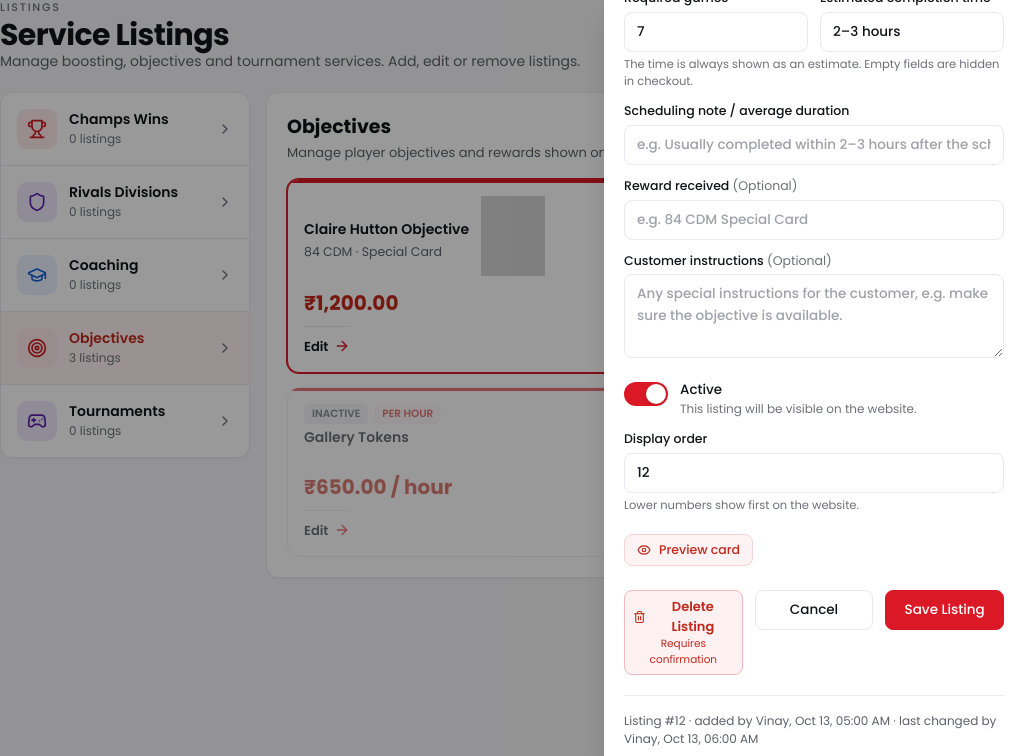
Scenario: Add / Edit Listing › delete asks first, and with orders placed recommends deactivating instead
(page scrolled)
What coordinates should you click on to do the following:
click the button "Delete Listing Requires confirmation"
I would click on:
 (683, 632)
Its box is [624, 590, 743, 675].
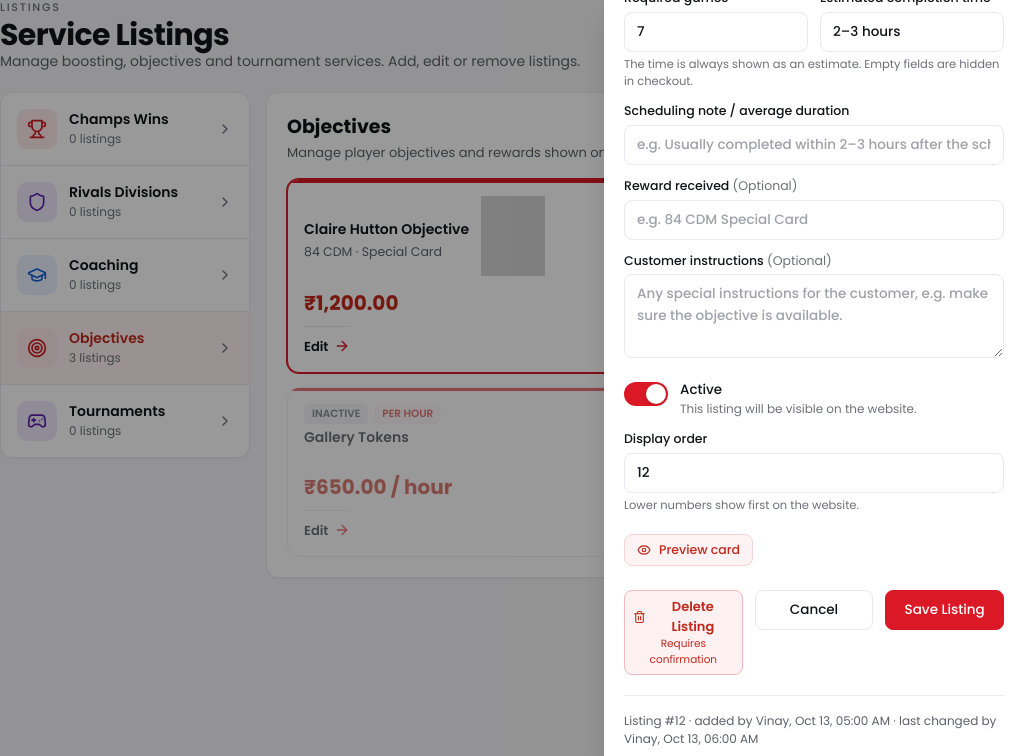
What coordinates should you click on to do the following:
click the button "Delete Listing Requires confirmation"
I would click on:
 (683, 632)
Its box is [624, 590, 743, 675].
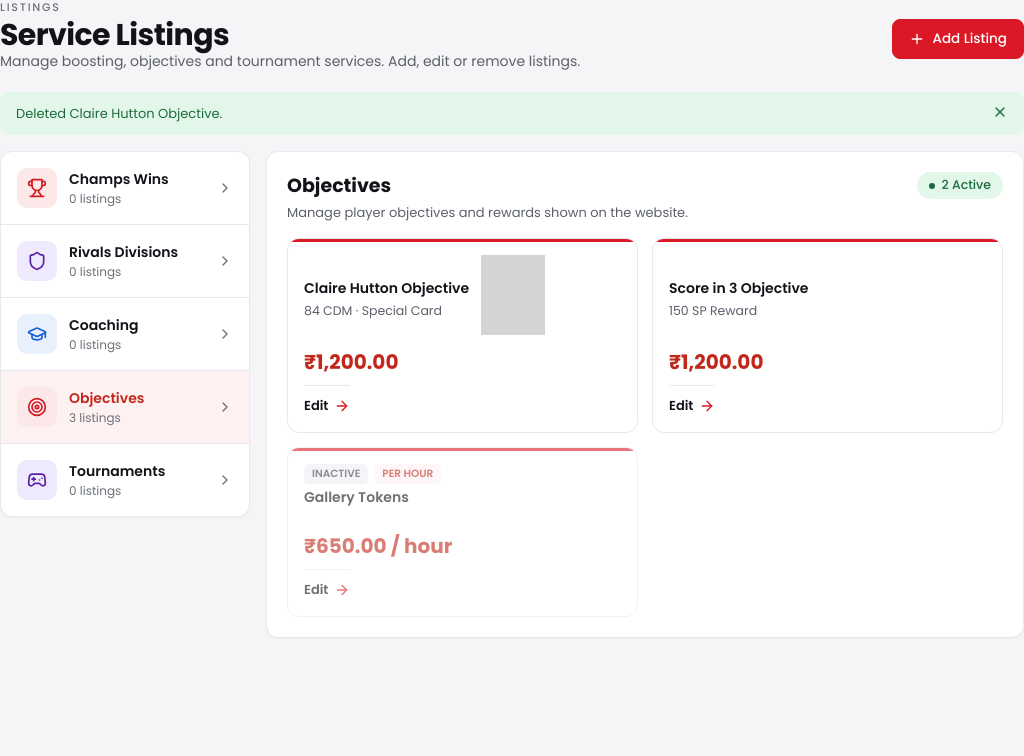
expect the message reads "Deleted Claire Hutton Objective.": met, box [16, 104, 222, 123]
